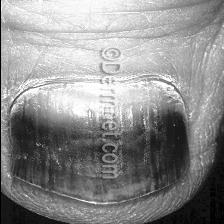Toxin: (12, 107, 90, 195), (124, 92, 172, 198)
